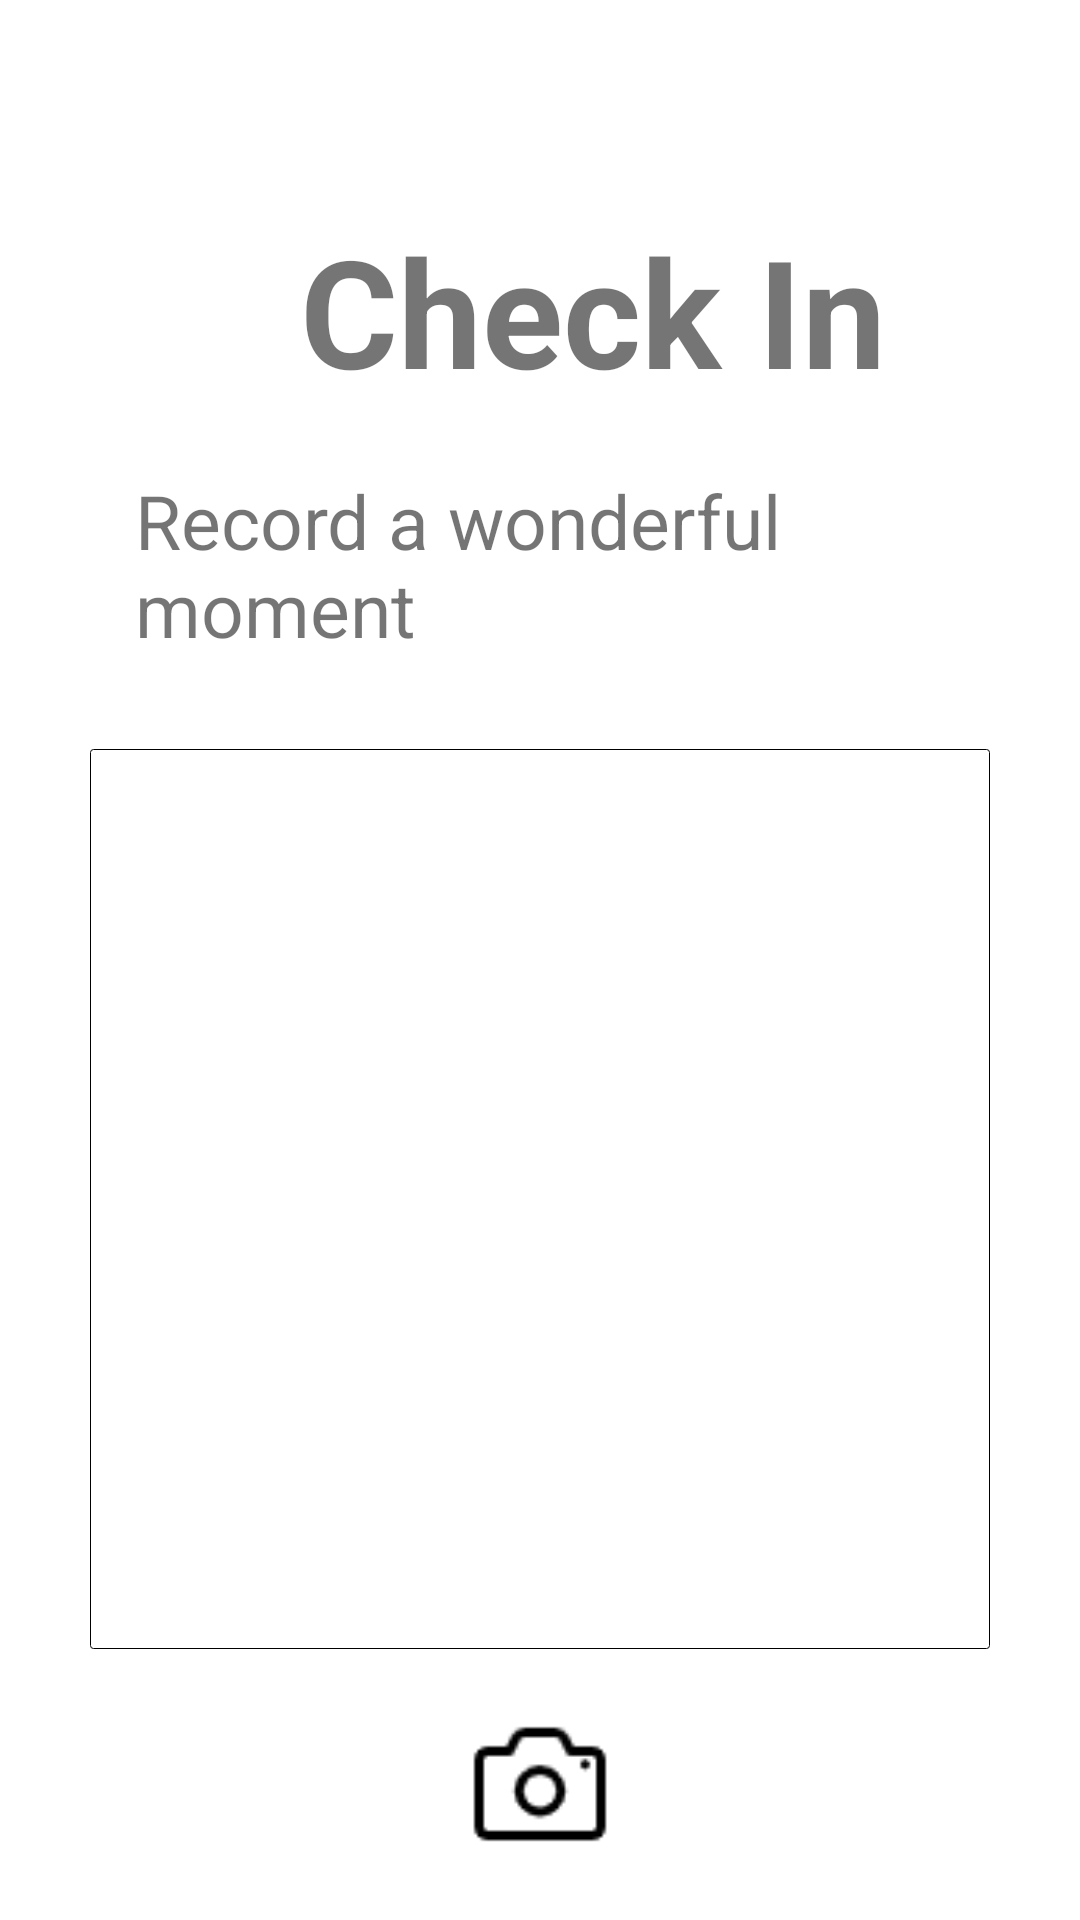

Locate icon controls on the screen. Image size 1080x1920, boxes as (x1, y1, x2, y2).
camera: (473, 1726, 607, 1842)
